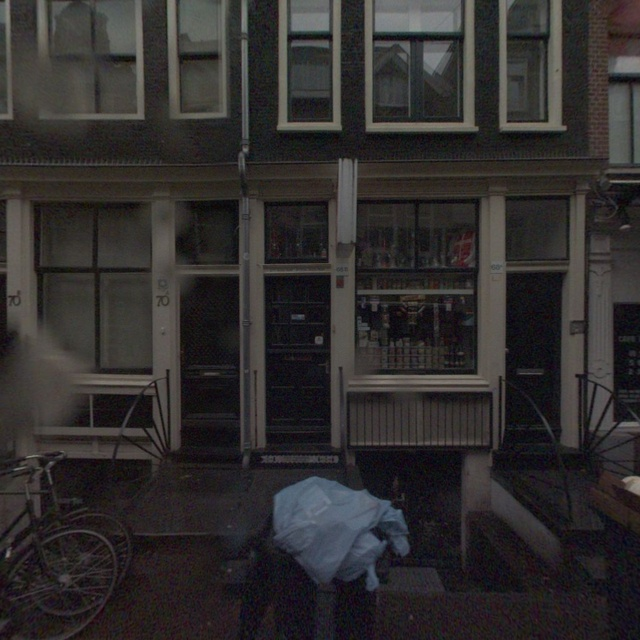Garbage Bags: (277, 480, 410, 586)
